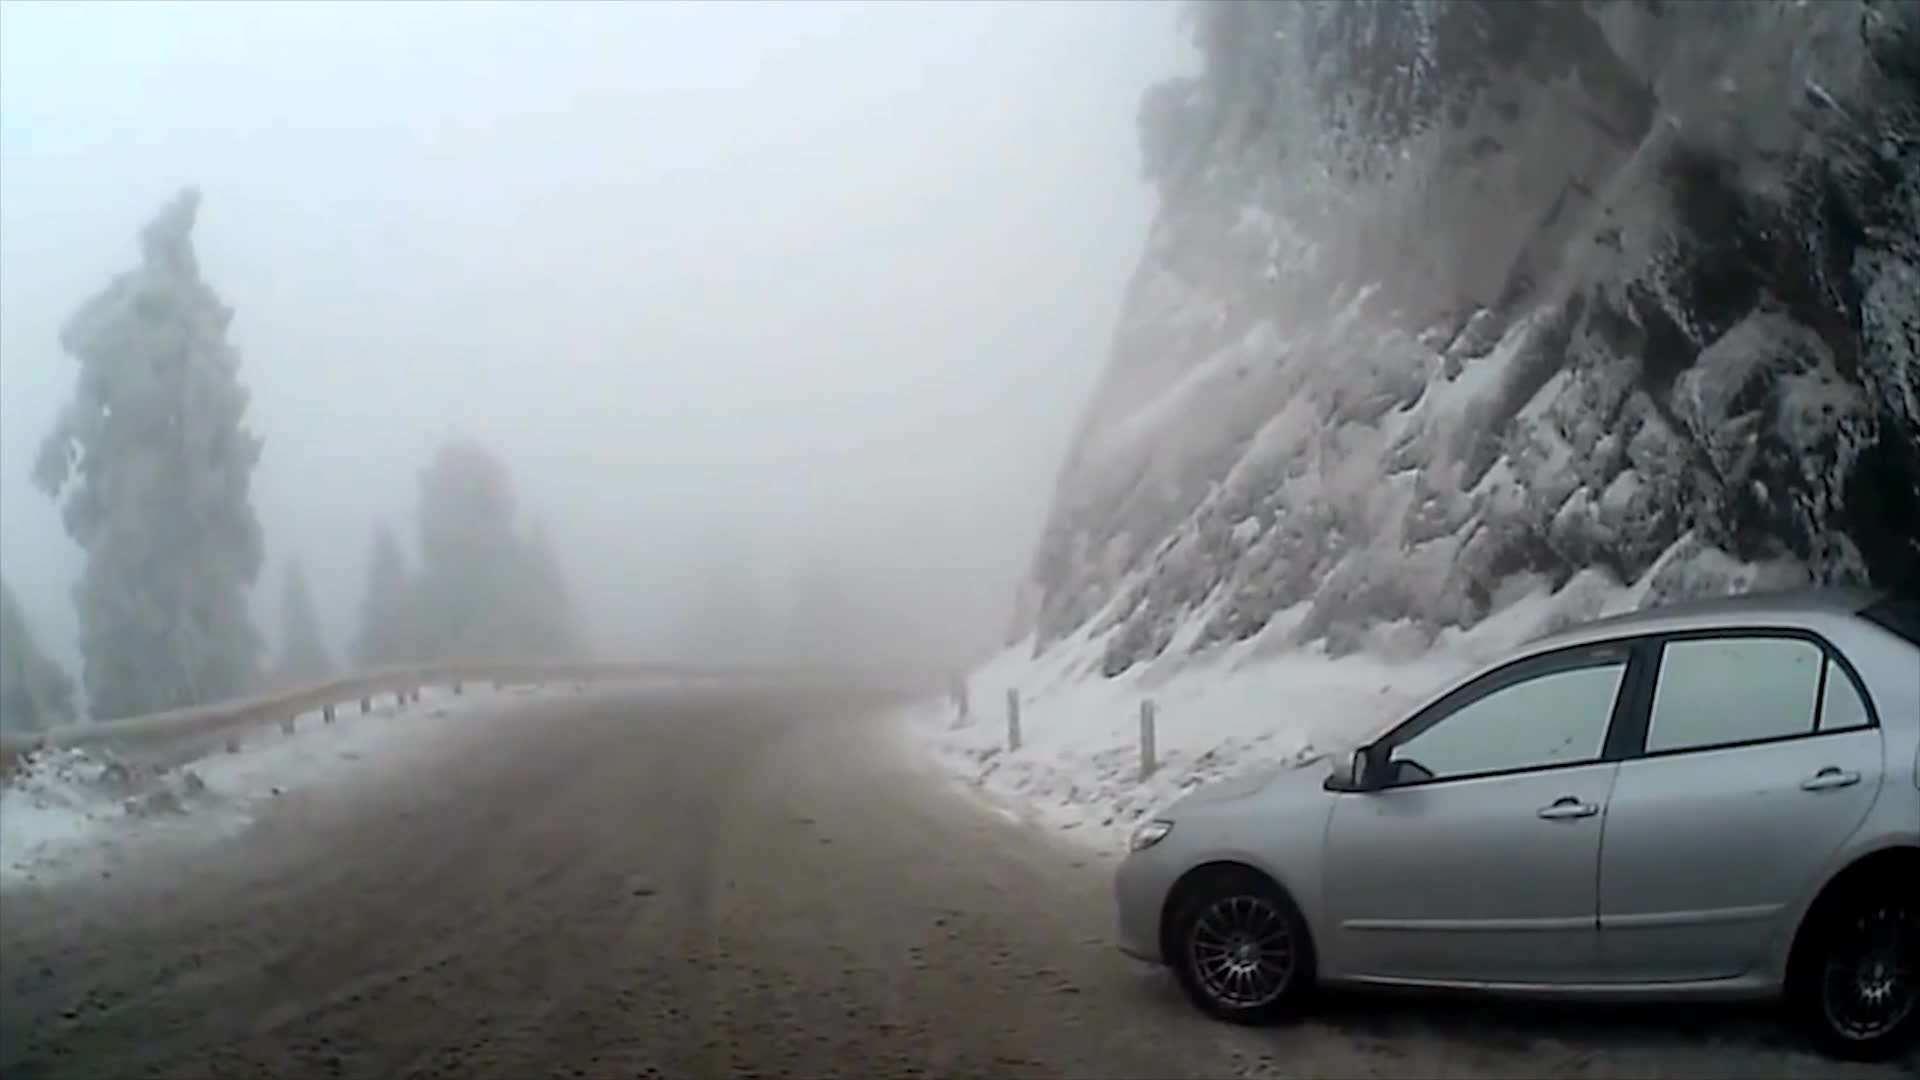vehicle: (1112, 583, 1920, 1063)
